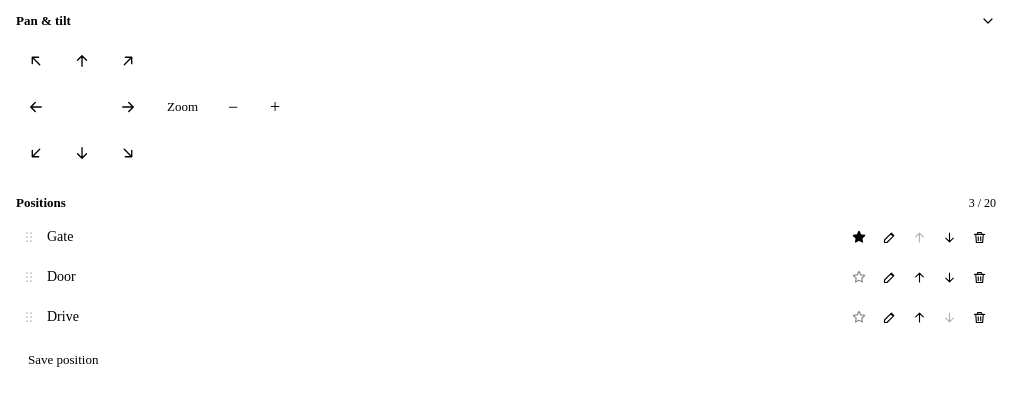
PtzPanel positions › save checks the name before asking
Click the button "Save position" at (63, 360), box [16, 345, 110, 375]
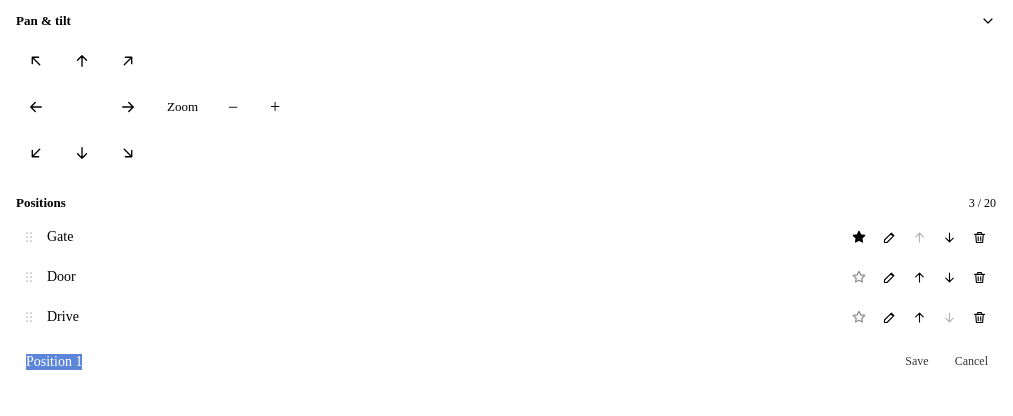
Replace the text in the field named "Name of the new position" with "door" at (454, 362), box [18, 346, 889, 376]
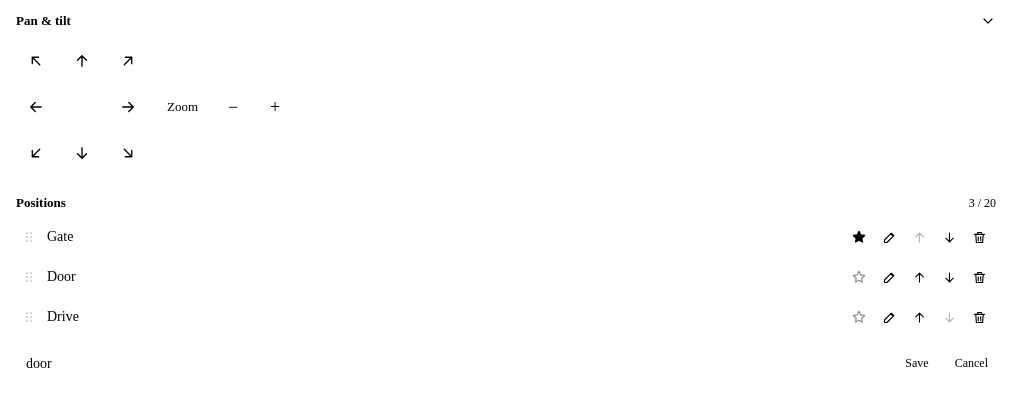
Press Enter in the field named "Name of the new position", box [18, 349, 889, 379]
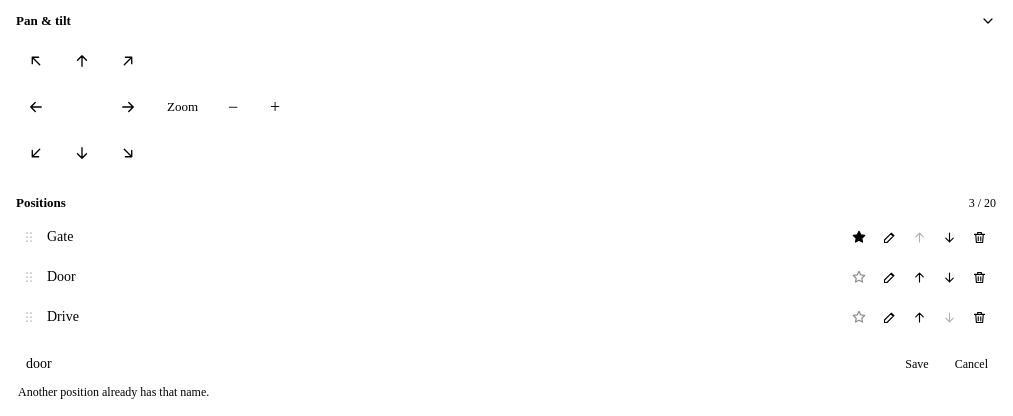
Result: the message "Another position already has that name." is shown at [18, 385, 209, 399]
